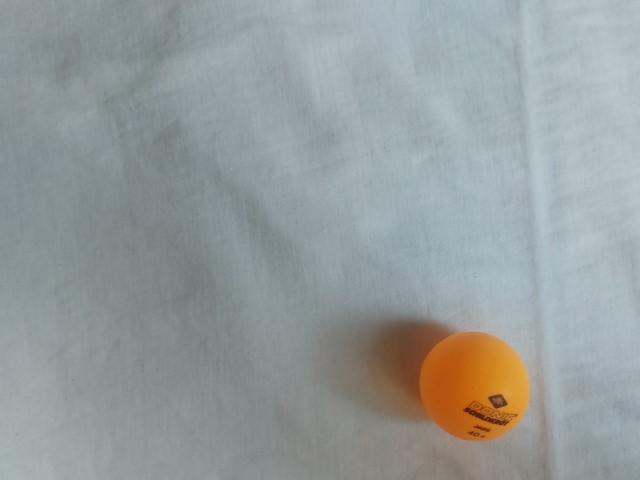oball: (409, 324, 537, 449)
